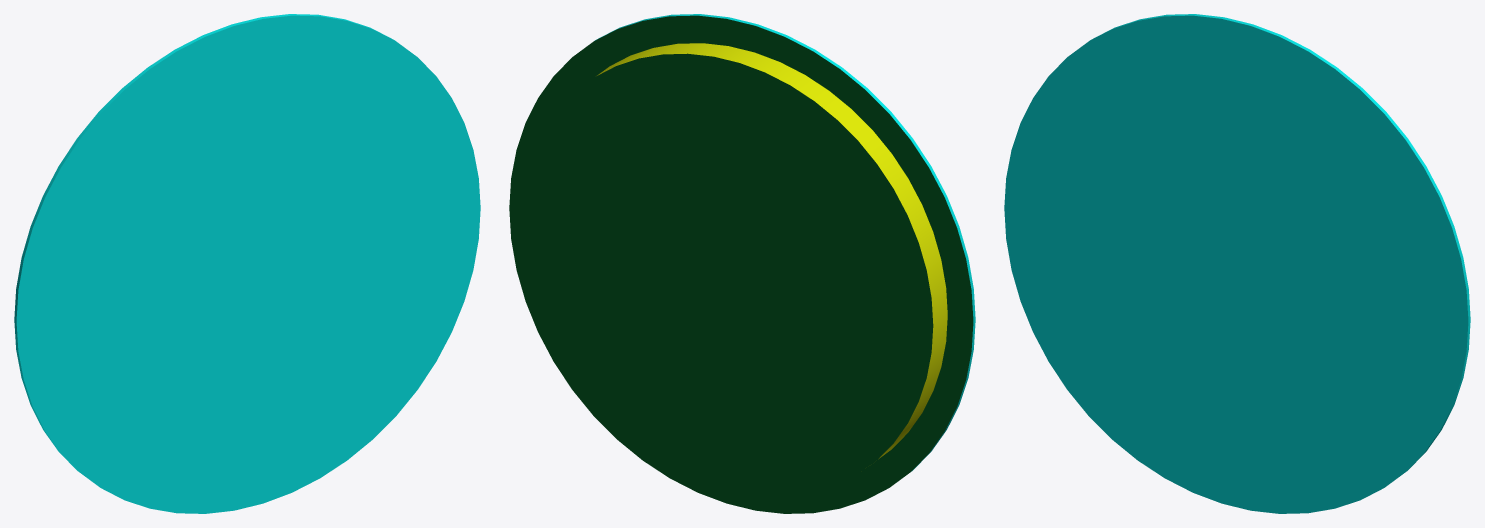
Rendered from MirrorBath03.fbx.
The picture shows the model from 3 angles, left to right: view 1: azimuth 30°, elevation 25°; view 2: azimuth 150°, elevation 25°; view 3: azimuth 330°, elevation 25°; orthographic projection.
Parts seen in each view (by area): view 1: MirrorRoundBath03; view 2: MirrorRoundBath03; view 3: MirrorRoundBath03.
Boxes of the visible parts, left/top/right/bottom form: MirrorRoundBath03: left=14, top=14, right=480, bottom=513; MirrorRoundBath03: left=509, top=14, right=975, bottom=513; MirrorRoundBath03: left=1004, top=14, right=1470, bottom=513.
Size of the model in its own units: 60 by 59.88 by 3.75.
